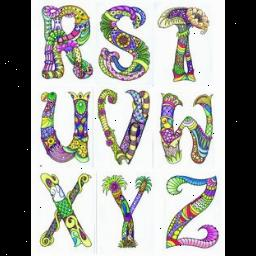r: (36, 2, 98, 84)
s: (97, 4, 155, 82)
t: (154, 3, 216, 85)
u: (36, 90, 92, 166)
v: (94, 88, 154, 168)
w: (156, 91, 218, 165)
x: (36, 172, 98, 252)
y: (97, 171, 155, 249)
z: (160, 171, 222, 251)
